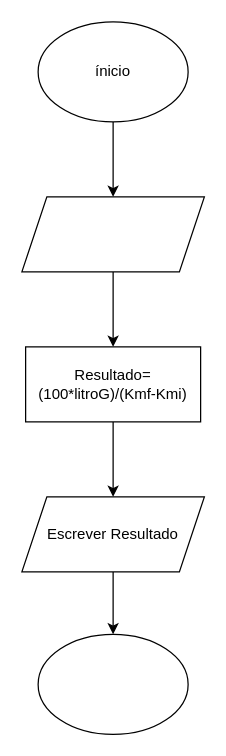
Some shapes in this 226 by 756 pixel diagram are drawn without their labels. The box of each missing label's shape, as (x1, y1, x2, y2) in pixels:
Fim: (37, 633, 188, 734)
Ler Kmi,Kmf,litrosG: (21, 196, 204, 272)
